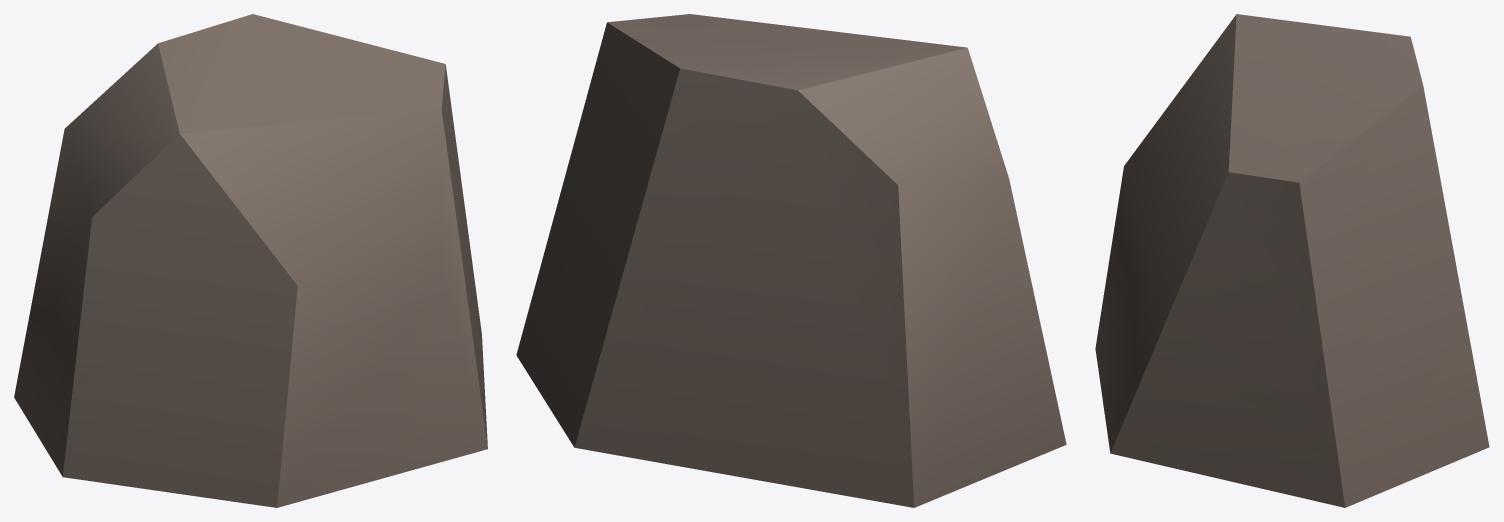
File: Rock 02.FBX
3 views of the same model, side by side, from view 1: azimuth 30°, elevation 25°; view 2: azimuth 150°, elevation 25°; view 3: azimuth 270°, elevation 25° (orthographic). The views are drawn at different scales.
Visible parts, largest first — view 1: Rock 02; view 2: Rock 02; view 3: Rock 02.
Boxes of the visible parts, x1,y1,x2,y2 form: Rock 02: [14, 14, 487, 507]; Rock 02: [516, 14, 1066, 507]; Rock 02: [1095, 14, 1489, 507].
Bounding box in the file's own units: 76.41 × 53.42 × 57.52.
Materials: 1 (1 with a texture image).
